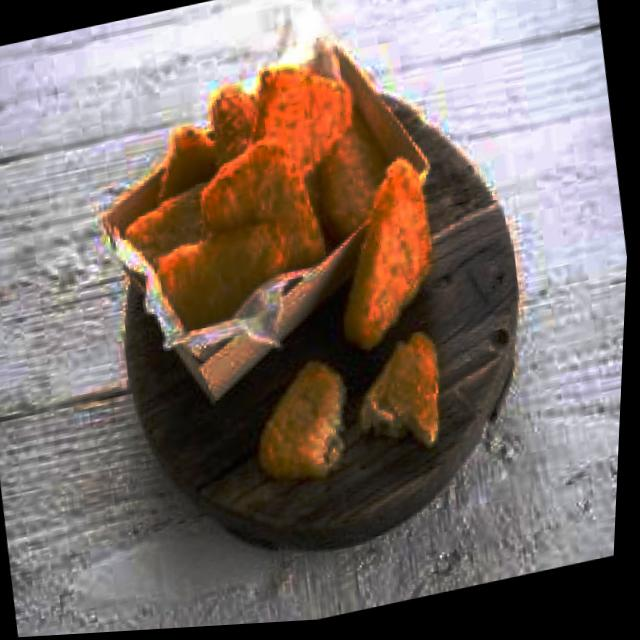Hashbrown: (317, 153, 449, 355), (190, 129, 331, 291), (238, 53, 365, 188), (148, 222, 294, 336), (244, 353, 358, 491), (348, 329, 450, 460), (308, 103, 399, 238), (116, 180, 221, 266), (151, 127, 218, 202), (206, 85, 267, 164)
